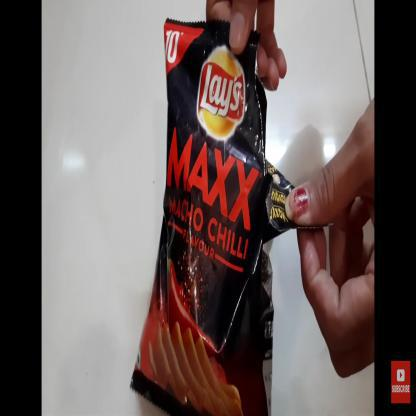max_chili: (159, 22, 275, 397)
